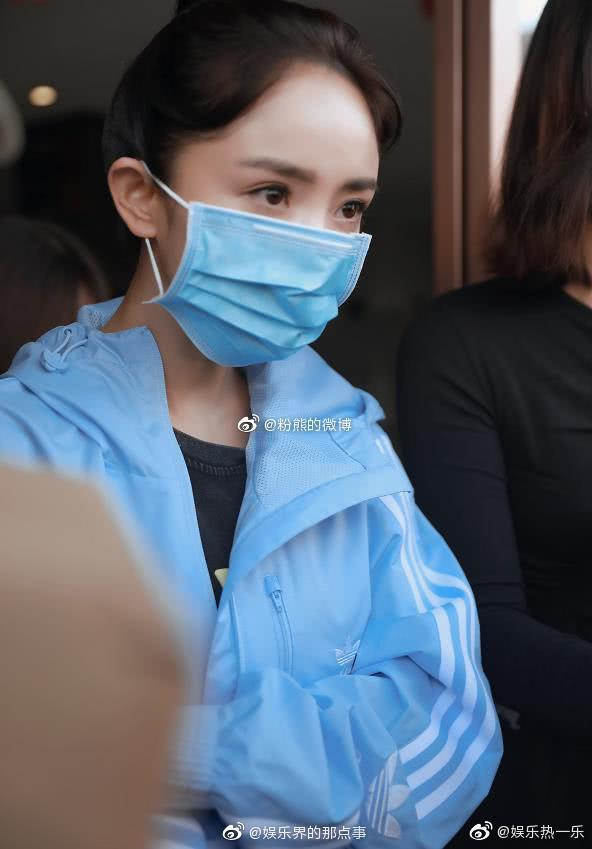OK: (175, 129, 378, 366)
